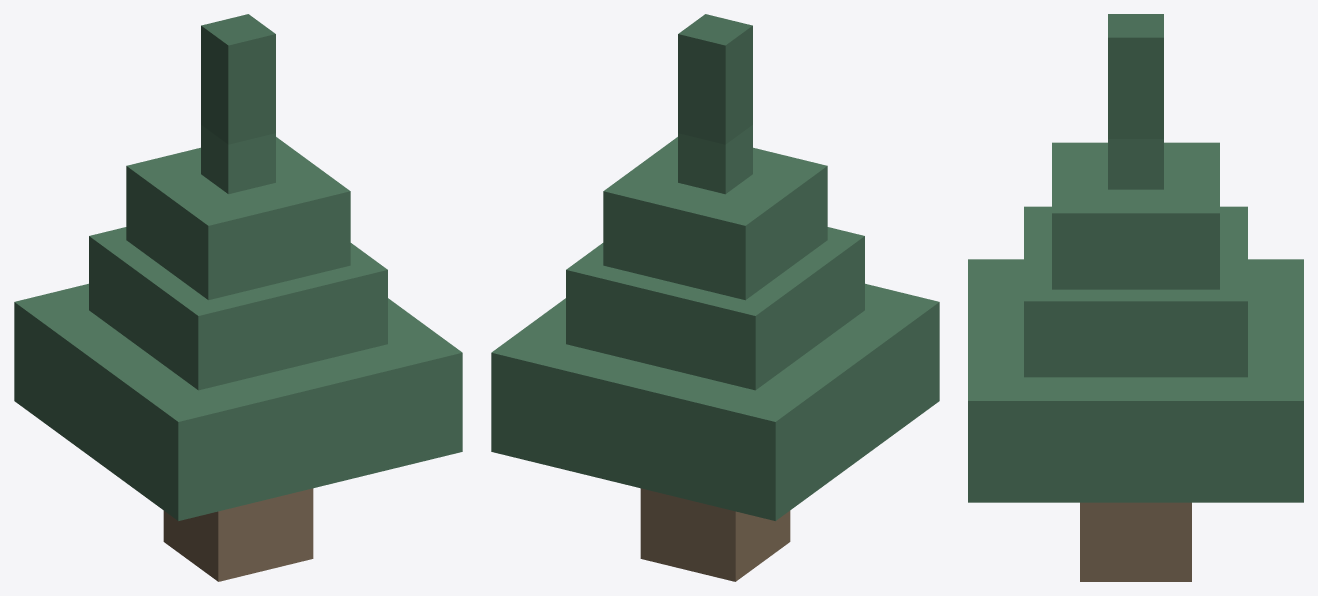
File: abeto_09.glb
3 views of the same model, side by side, from view 1: azimuth 30°, elevation 25°; view 2: azimuth 150°, elevation 25°; view 3: azimuth 270°, elevation 25° (orthographic). The views are drawn at different scales.
Visible parts, largest first — view 1: abeto_09; view 2: abeto_09; view 3: abeto_09.
Boxes of the visible parts, x1,y1,x2,y2 form: abeto_09: (14,14,462,581); abeto_09: (491,14,939,581); abeto_09: (968,14,1303,581).
Bounding box in the file's own units: 1.2 × 2.1 × 1.2.
